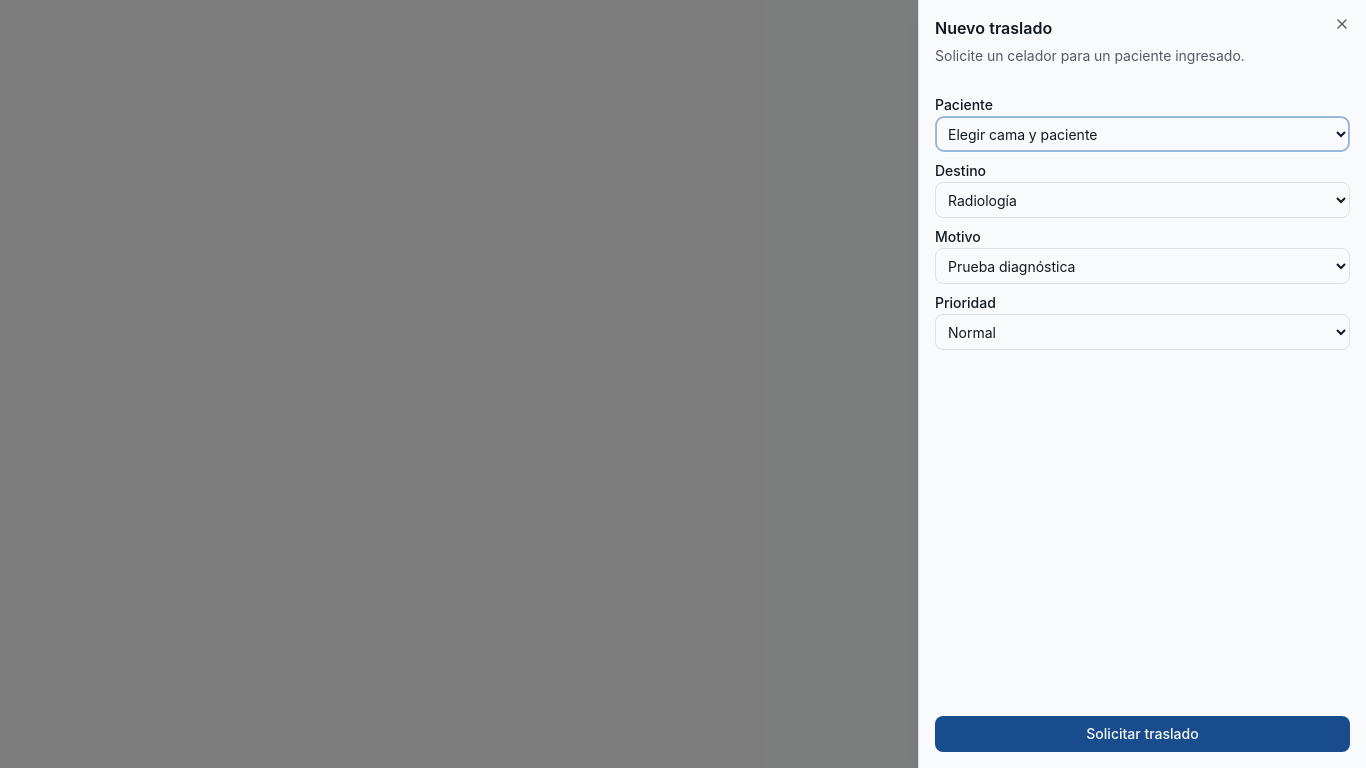
Test: NewTransferSheet › shows the error and stays open when the request fails
Step 1. Select "Planta 1 101 · M. G." in the dropdown labelled "Paciente" → (1142, 134), box [935,116,1350,152]
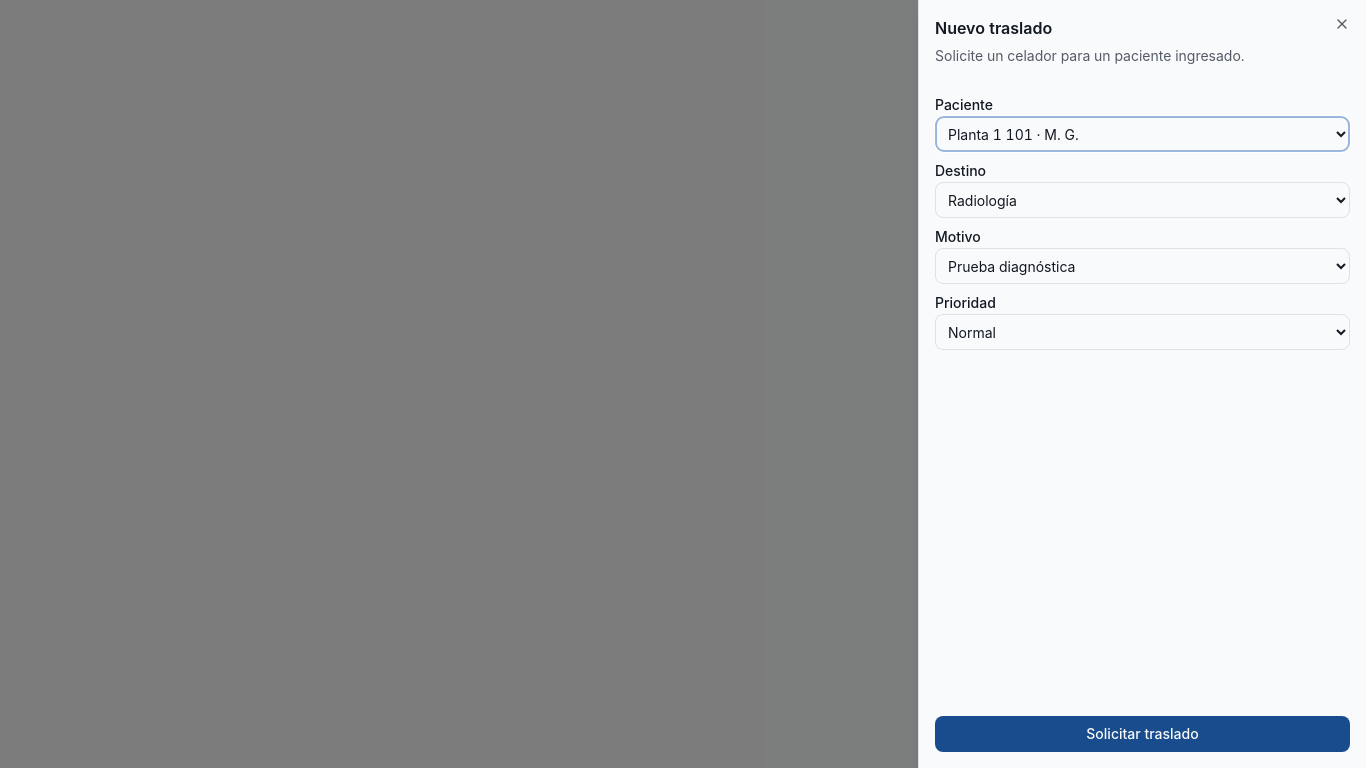
Step 2. Click the button "Solicitar traslado" → (1142, 734), box [935,716,1350,752]
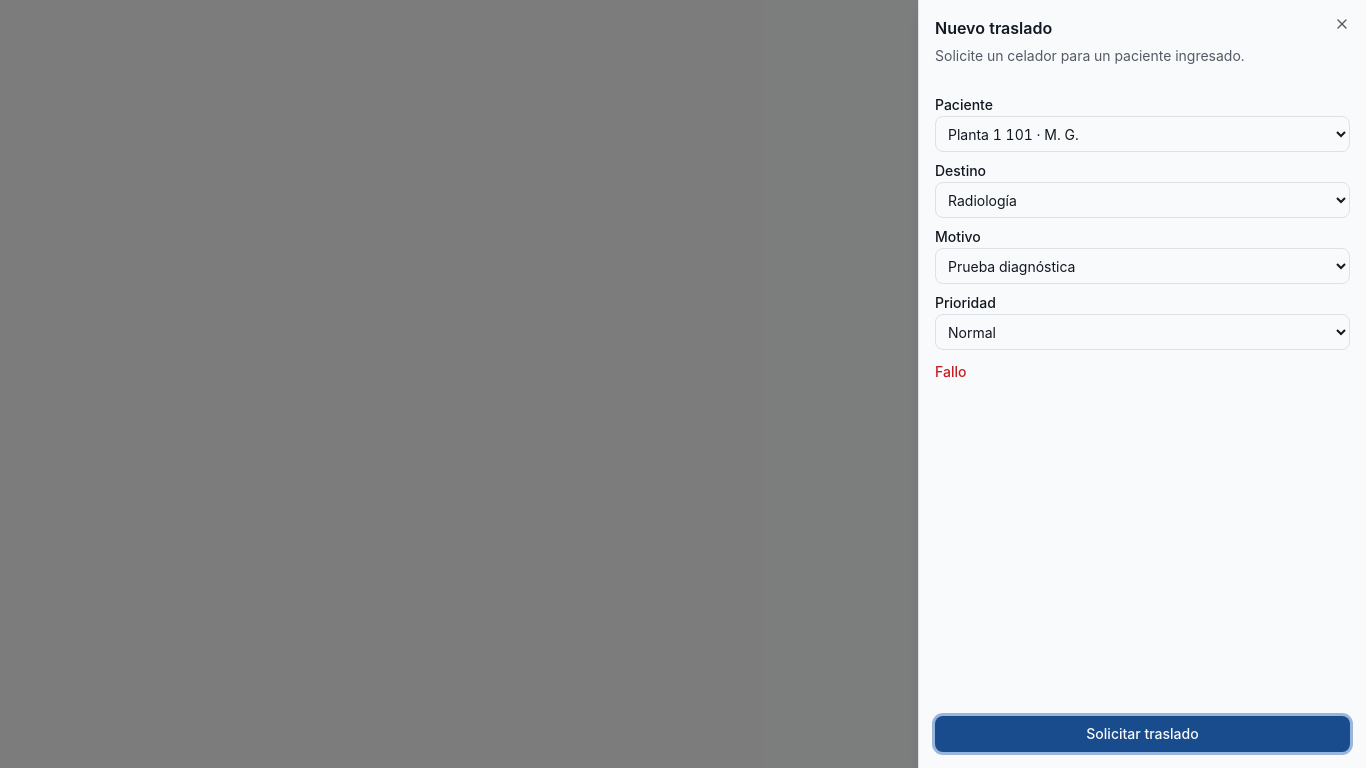
expect the message reads "Fallo": met, box [935,363,966,380]
